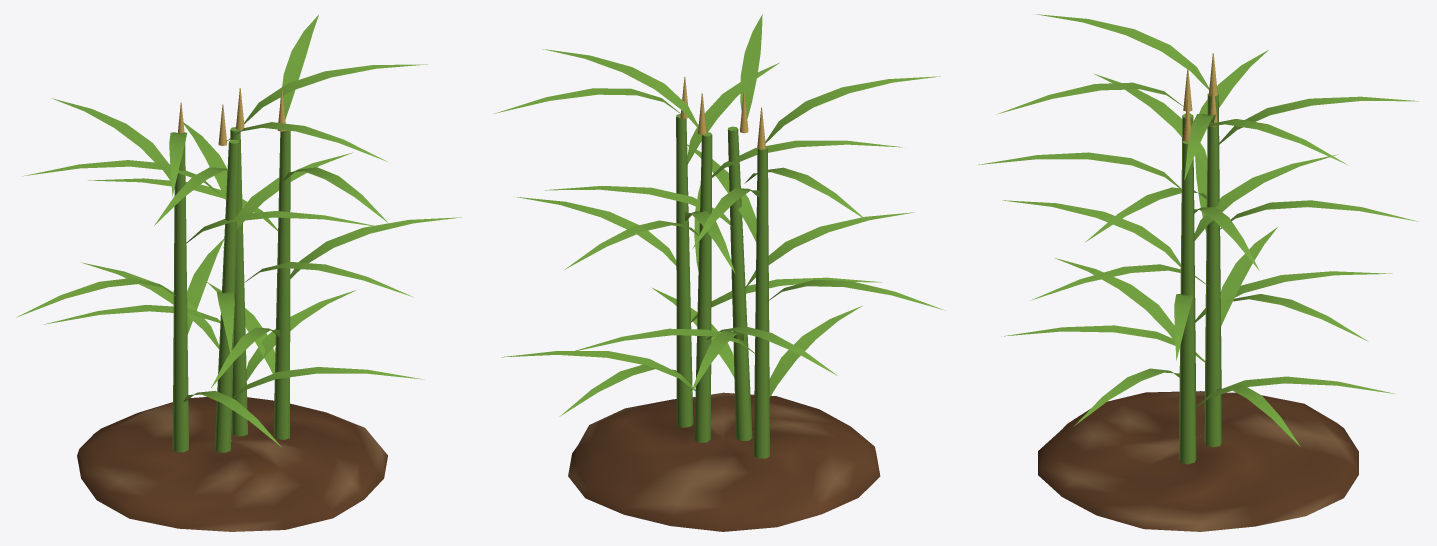
Rendered from plant-corn-4.gltf.
3 renders of one model, left to right at view 1: azimuth 30°, elevation 25°; view 2: azimuth 150°, elevation 25°; view 3: azimuth 270°, elevation 25°, orthographic. The views are drawn at different scales.
Bounding box in the file's own units: 2.09 × 1.68 × 1.76.
